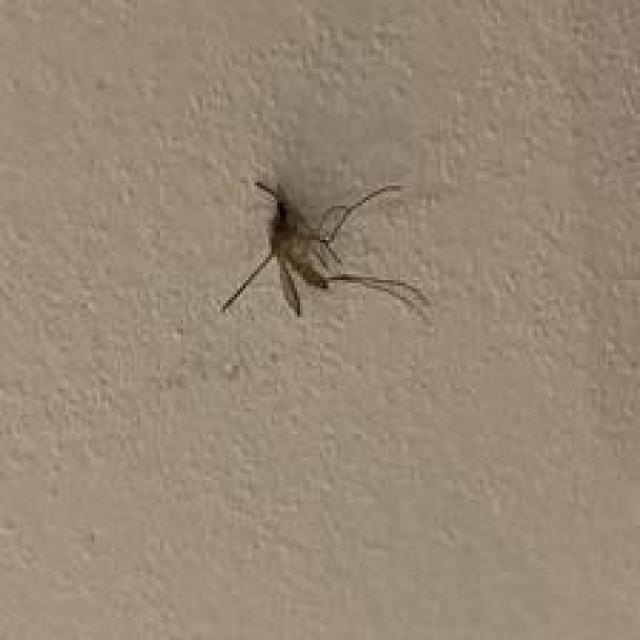Culex: (218, 176, 433, 327)
